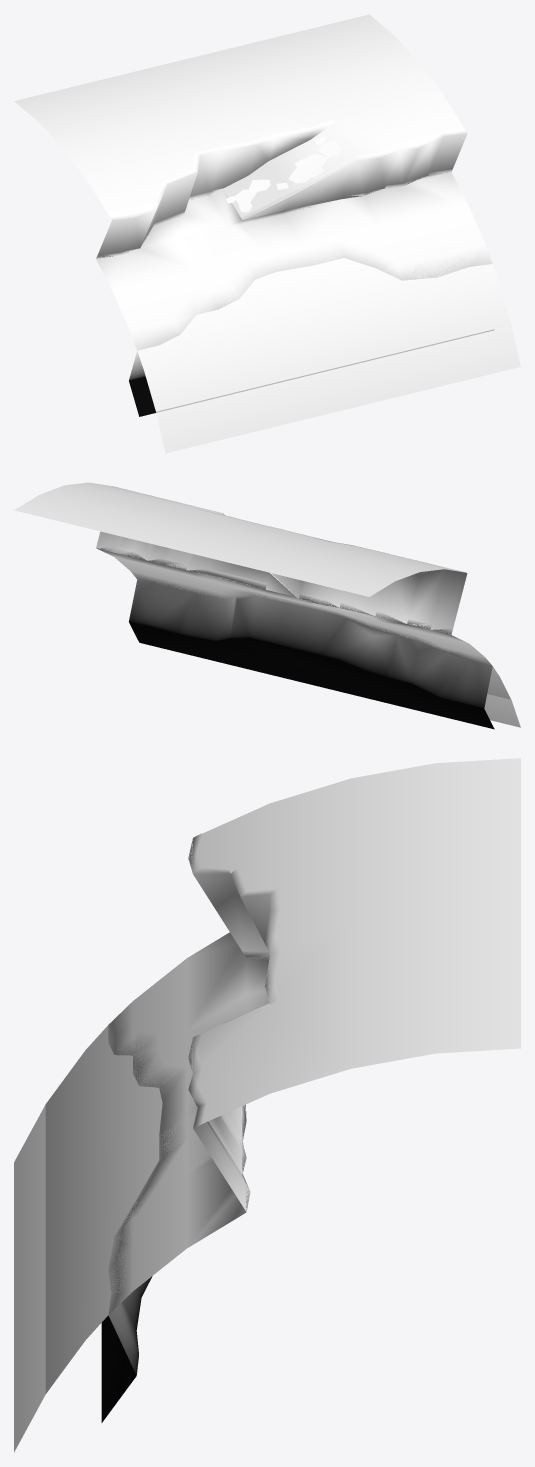
The model's file is grd_Ms_S_0.dae.
3 renders of one model, top to bottom at view 1: azimuth 30°, elevation 25°; view 2: azimuth 150°, elevation 25°; view 3: azimuth 270°, elevation 25°, orthographic. The views are drawn at different scales.
Visible parts, largest first — view 1: grd_Ms_S_0; view 2: grd_Ms_S_0; view 3: grd_Ms_S_0.
Boxes of the visible parts, x1=… form: grd_Ms_S_0: x1=14, y1=14, x2=520, y2=453; grd_Ms_S_0: x1=14, y1=482, x2=520, y2=729; grd_Ms_S_0: x1=14, y1=758, x2=520, y2=1452.
Size of the model in its own units: 512 by 332 by 378.
Materials: 7 (1 with a texture image).
